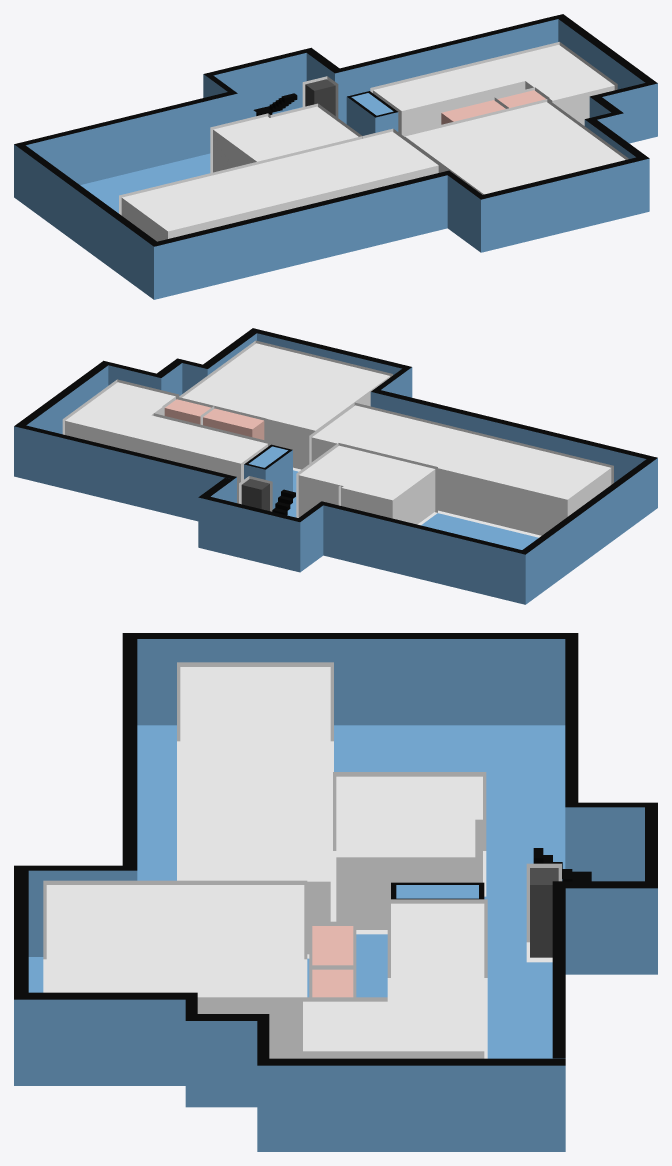
The picture shows the model from 3 angles, top to bottom: view 1: azimuth 30°, elevation 25°; view 2: azimuth 150°, elevation 25°; view 3: azimuth 270°, elevation 25°; orthographic projection. The views are drawn at different scales.
Visible parts, largest first — view 1: object, room_L_4_2, room_L_4_1, room_L_4_3, room_L_4_4, object_line, object_line.002, object_line.005, エレベーター_L_4_1, トイレ_L_4_2, object_line.001, トイレ_L_4_1 (+1 smaller); view 2: object, room_L_4_2, room_L_4_1, room_L_4_3, room_L_4_4, object_line, トイレ_L_4_2, object_line.001, object_line.002, object_line.005, エレベーター_L_4_1, トイレ_L_4_1; view 3: object, room_L_4_2, room_L_4_1, room_L_4_3, room_L_4_4, object_line, object_line.005, object_line.002, エレベーター_L_4_1, object_line.001, トイレ_L_4_2, トイレ_L_4_1 (+1 smaller).
Boxes of the visible parts, x1=… form: object: x1=14, y1=14, x2=657, y2=299; room_L_4_2: x1=121, y1=131, x2=438, y2=241; room_L_4_1: x1=405, y1=102, x2=625, y2=194; room_L_4_3: x1=373, y1=45, x2=614, y2=134; room_L_4_4: x1=213, y1=106, x2=358, y2=172; object_line: x1=119, y1=128, x2=441, y2=215; object_line.002: x1=370, y1=42, x2=617, y2=92; object_line.005: x1=402, y1=99, x2=628, y2=159; エレベーター_L_4_1: x1=305, y1=79, x2=335, y2=115; トイレ_L_4_2: x1=441, y1=100, x2=505, y2=124; object_line.001: x1=210, y1=103, x2=362, y2=172; トイレ_L_4_1: x1=497, y1=90, x2=545, y2=108; object: x1=14, y1=328, x2=657, y2=604; room_L_4_2: x1=311, y1=405, x2=611, y2=535; room_L_4_1: x1=182, y1=343, x2=390, y2=469; room_L_4_3: x1=65, y1=382, x2=267, y2=503; room_L_4_4: x1=298, y1=445, x2=435, y2=524; object_line: x1=309, y1=402, x2=613, y2=537; トイレ_L_4_2: x1=203, y1=408, x2=264, y2=439; object_line.001: x1=296, y1=443, x2=437, y2=525; object_line.002: x1=62, y1=379, x2=270, y2=446; object_line.005: x1=179, y1=340, x2=392, y2=471; エレベーター_L_4_1: x1=241, y1=479, x2=269, y2=510; トイレ_L_4_1: x1=164, y1=399, x2=210, y2=424; object: x1=14, y1=633, x2=657, y2=1151; room_L_4_2: x1=180, y1=667, x2=330, y2=954; room_L_4_1: x1=46, y1=885, x2=304, y2=1058; room_L_4_3: x1=303, y1=903, x2=484, y2=1058; room_L_4_4: x1=336, y1=776, x2=482, y2=929; object_line: x1=177, y1=662, x2=333, y2=958; object_line.005: x1=43, y1=880, x2=307, y2=997; object_line.002: x1=299, y1=899, x2=487, y2=1058; エレベーター_L_4_1: x1=530, y1=868, x2=558, y2=957; object_line.001: x1=333, y1=772, x2=486, y2=934; トイレ_L_4_2: x1=312, y1=926, x2=353, y2=965; トイレ_L_4_1: x1=312, y1=969, x2=353, y2=997.
Size of the model in its own units: 2.33 by 0.2204 by 1.46.
